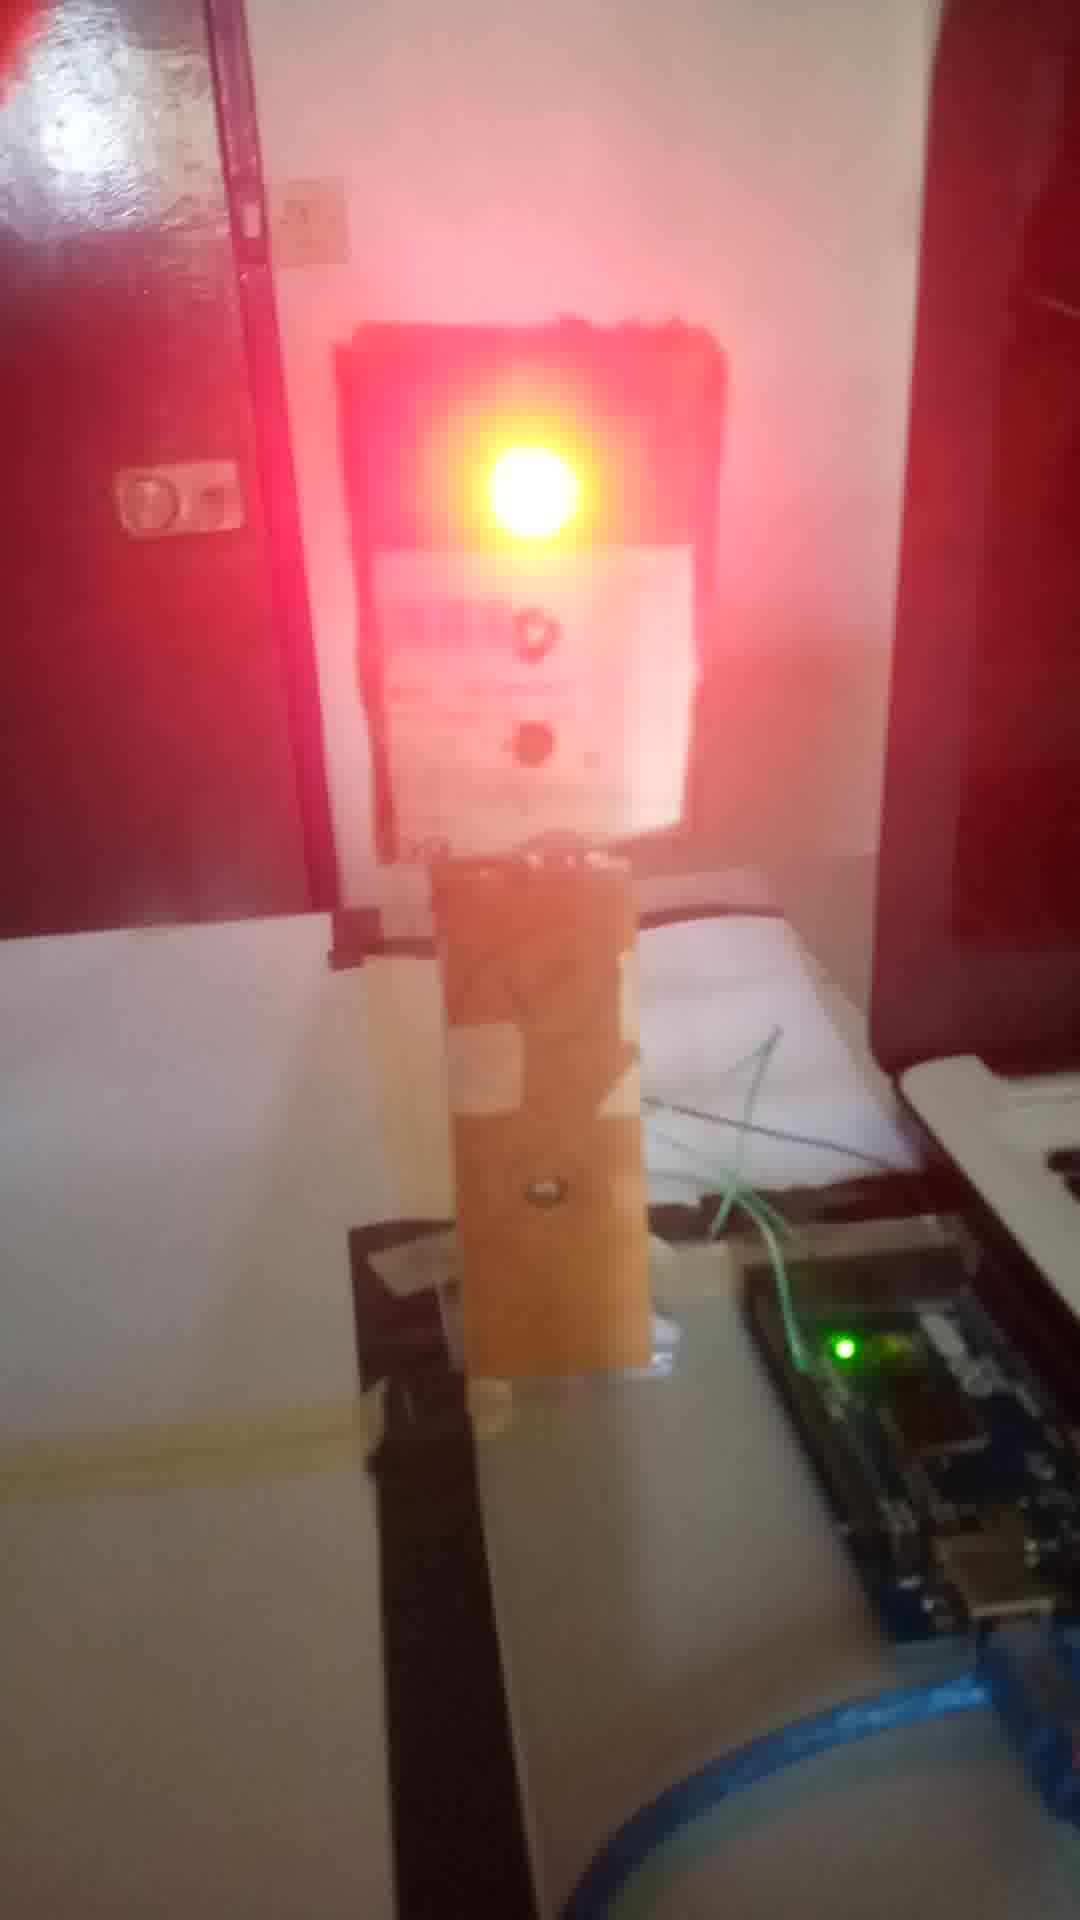red: (338, 340, 731, 857)
